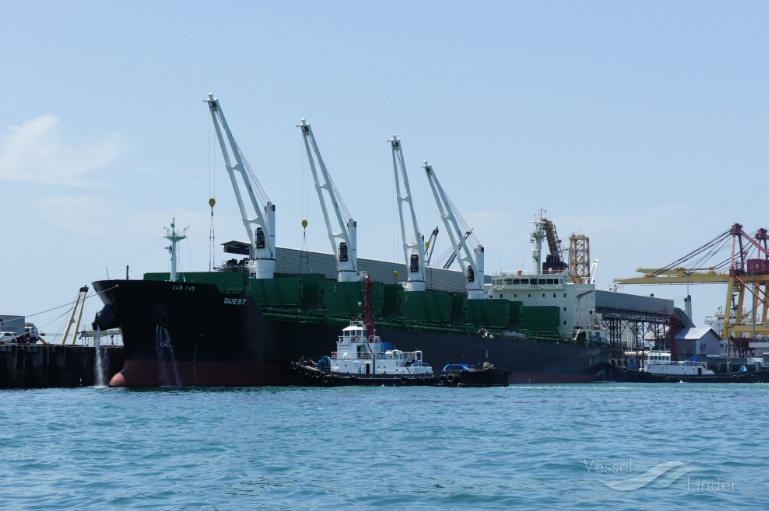OCR: (211, 294, 251, 315)
